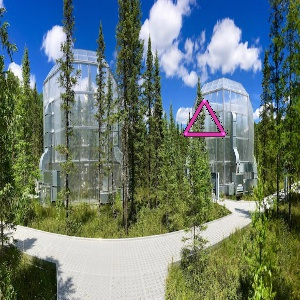triangle: (179, 96, 231, 142)
